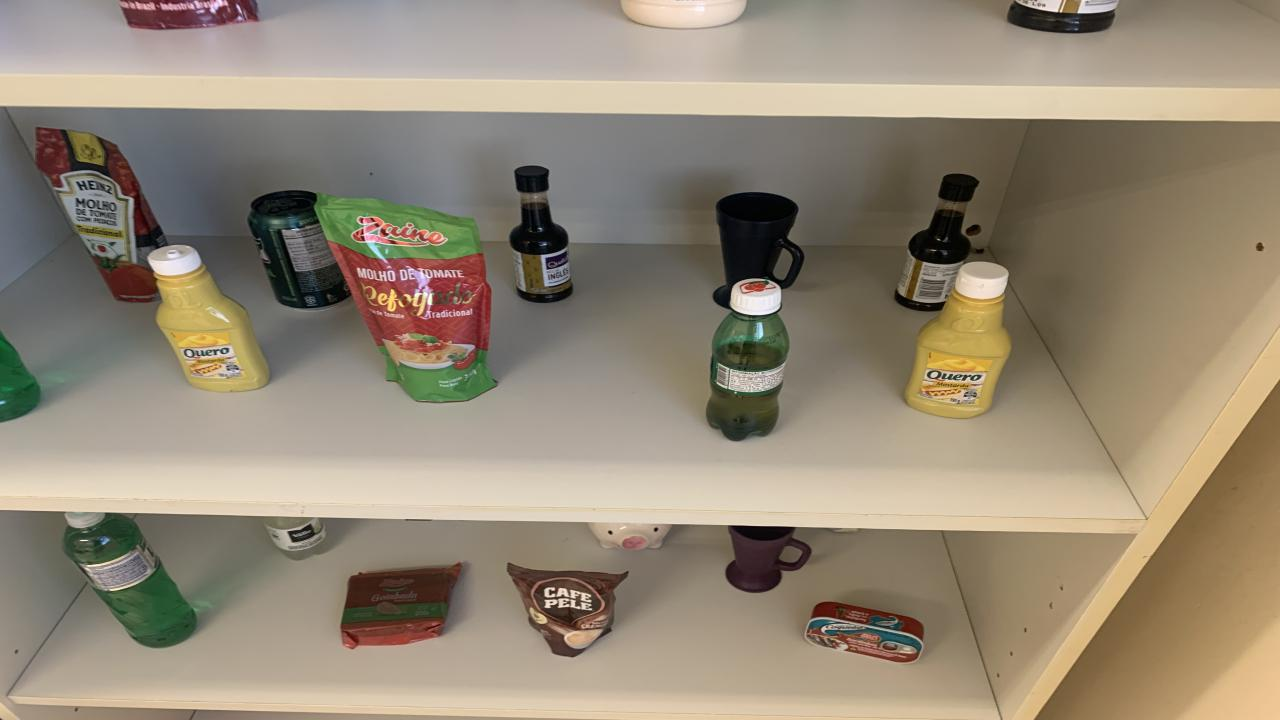Coffee-Pantry_Items: (508, 564, 628, 656)
Detergent-Cleanup_Items: (62, 512, 198, 647), (0, 332, 40, 422)
English_Sauce-Pantry_Items: (895, 174, 978, 311), (510, 167, 572, 302), (1008, 0, 1118, 34)
Guarana-Drinks: (708, 278, 790, 441)
Guarana_Can-Drinks: (248, 191, 350, 308)
Guava-Snacks: (340, 562, 460, 649)
Mayonnaise-Pantry_Items: (620, 0, 748, 28)
Mustard-Pantry_Items: (148, 244, 270, 392), (905, 262, 1010, 418)
Pig_Safe-Miscellaneous: (590, 523, 670, 549)
Soda-Drinks: (262, 516, 325, 561)
Tomato_Sauce-Pantry_Items: (315, 195, 495, 403), (35, 128, 165, 302), (120, 0, 258, 30)
Tuna_Can-Pantry_Items: (805, 602, 922, 664)
